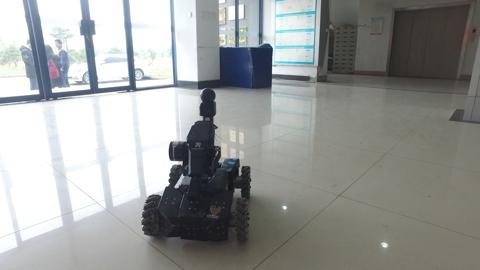chariot: (136, 84, 268, 249)
